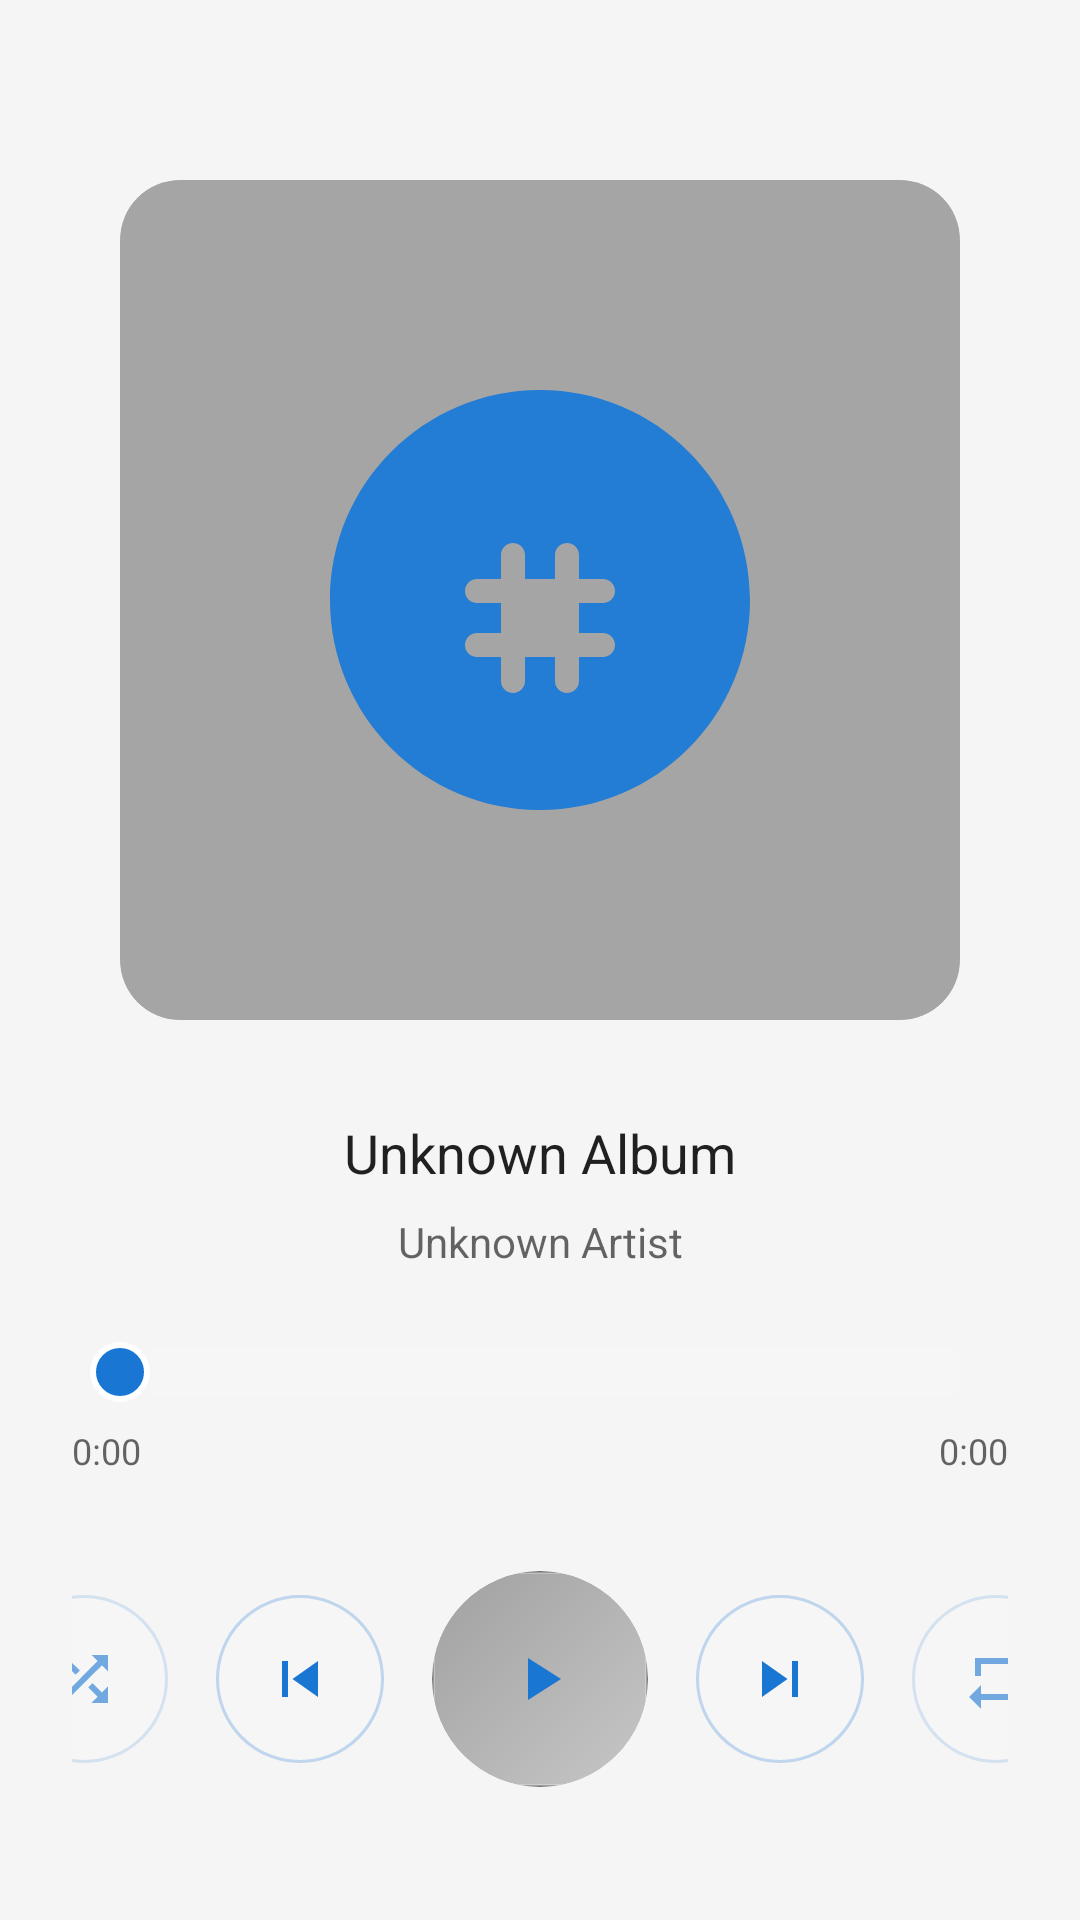

Screen size 1080w x 1920h. Icon name, then its center in pixels as (x,y):
Next: (780,1679)
Play: (540,1679)
Previous: (300,1679)
